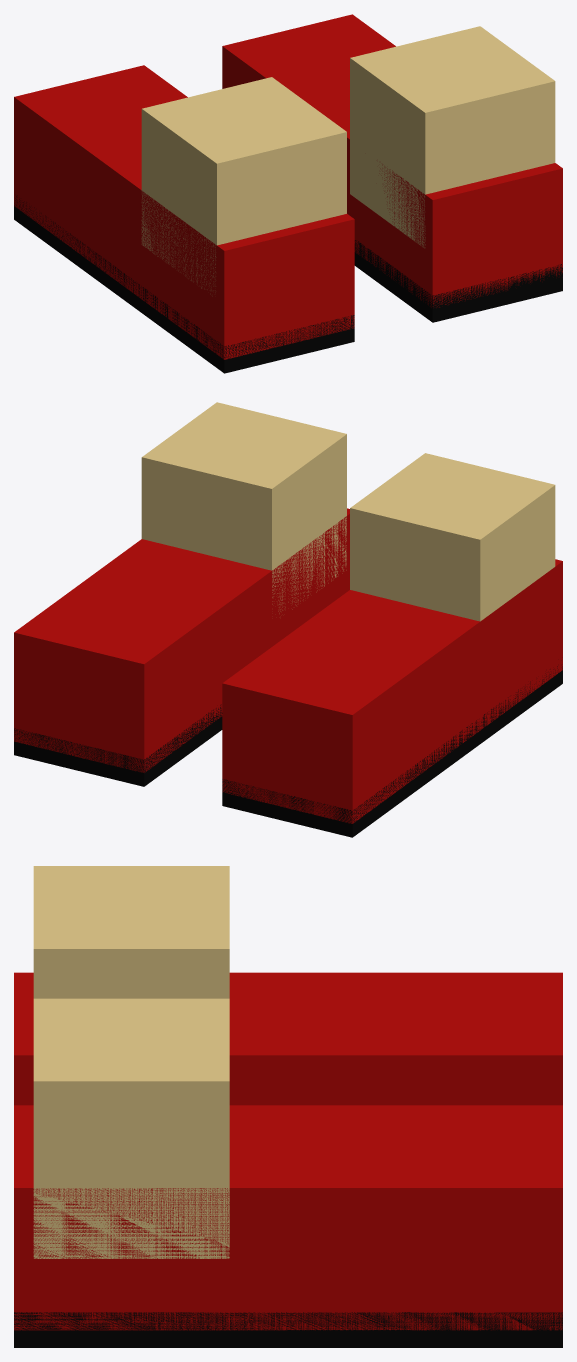
The model's file is bowling_shoes.obj.
3 renders of one model, top to bottom at view 1: azimuth 30°, elevation 25°; view 2: azimuth 150°, elevation 25°; view 3: azimuth 270°, elevation 25°, orthographic. The views are drawn at different scales.
Visible parts, largest first — view 1: bowling_shoes; view 2: bowling_shoes; view 3: bowling_shoes.
Part boxes in pixels (left/top/right/bottom): bowling_shoes: left=14, top=14, right=562, bottom=373; bowling_shoes: left=14, top=402, right=562, bottom=837; bowling_shoes: left=14, top=866, right=562, bottom=1347.
Size of the model in its own units: 0.26 by 0.15 by 0.28.
